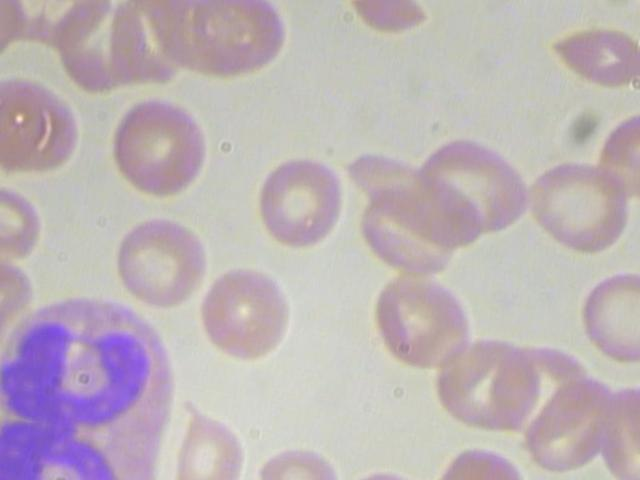RBC: (322, 138, 498, 258), (395, 119, 545, 257), (335, 256, 496, 384), (90, 84, 221, 214), (424, 315, 557, 442), (512, 140, 640, 270), (184, 249, 312, 375), (101, 200, 217, 322), (239, 142, 355, 263), (170, 0, 302, 98), (426, 429, 542, 480)
WBC: (0, 274, 197, 452)
